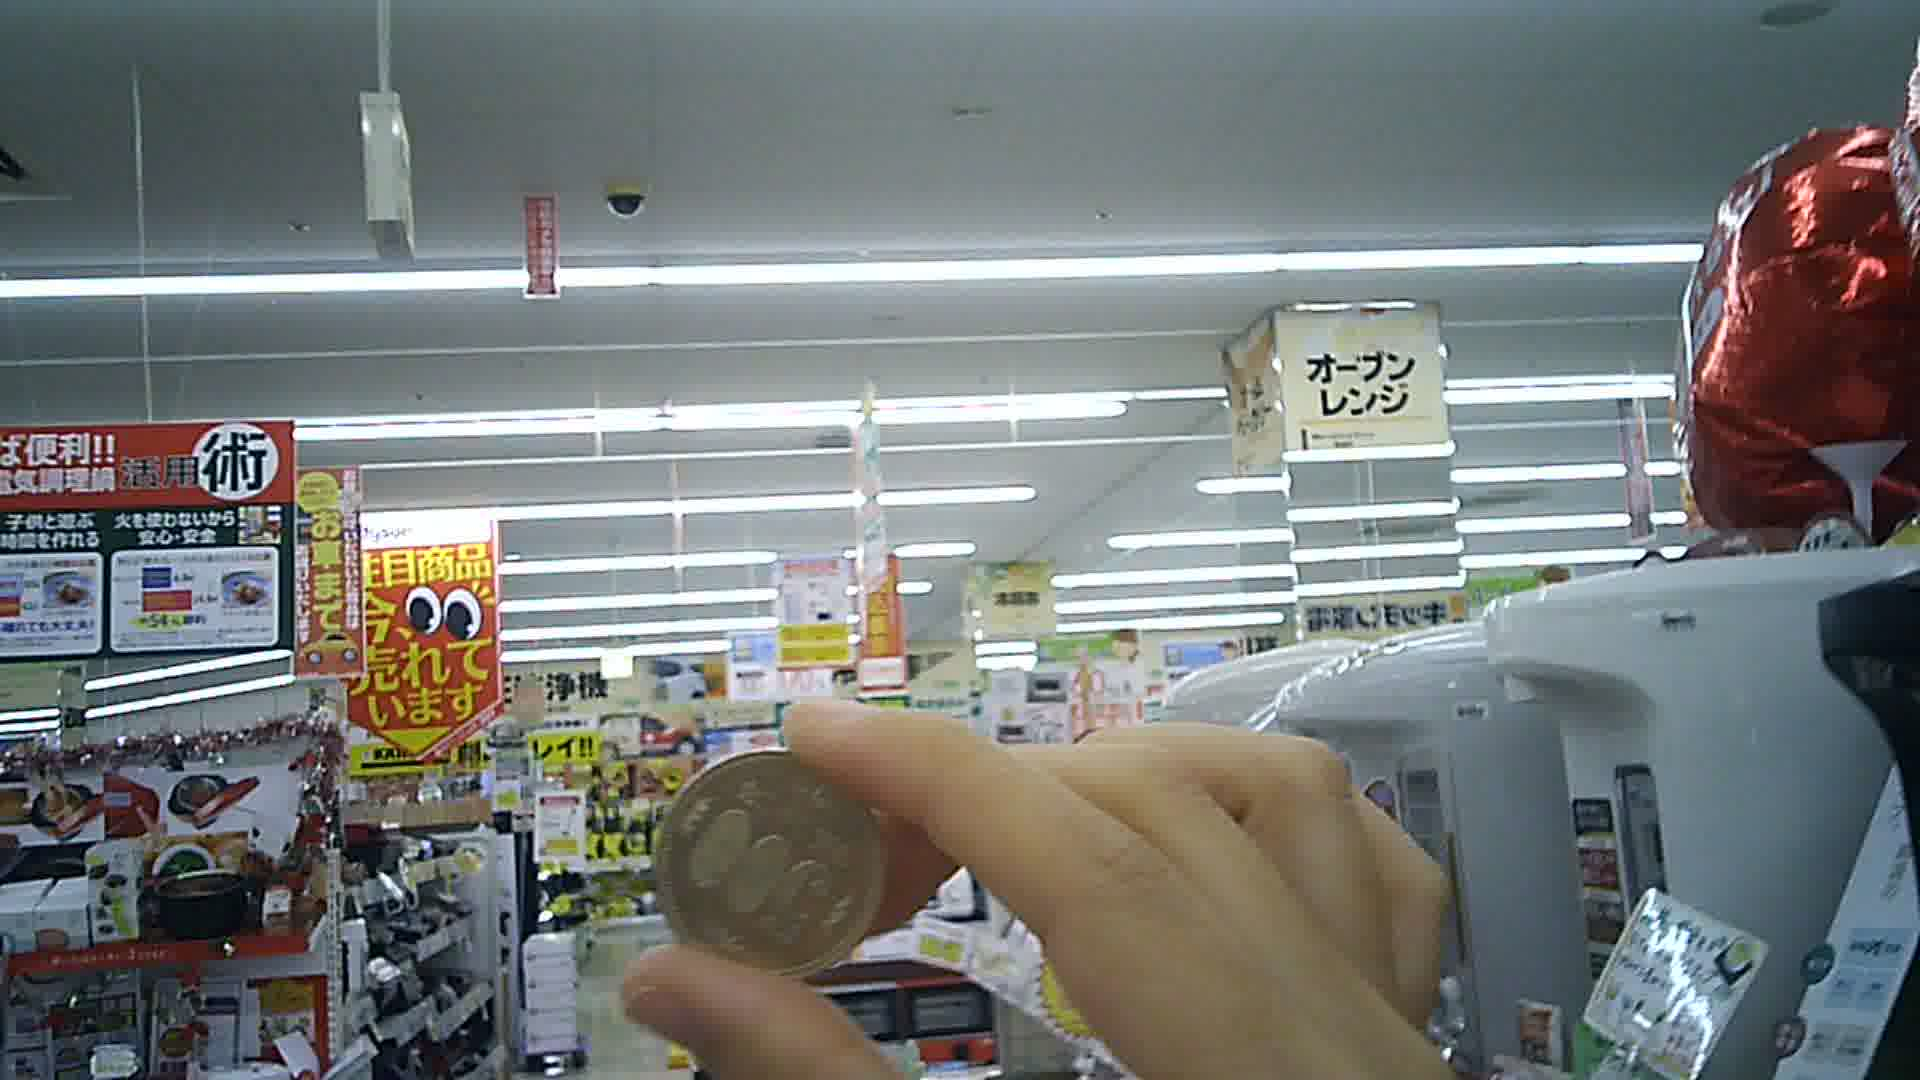500 Yen: (655, 741, 891, 993)
